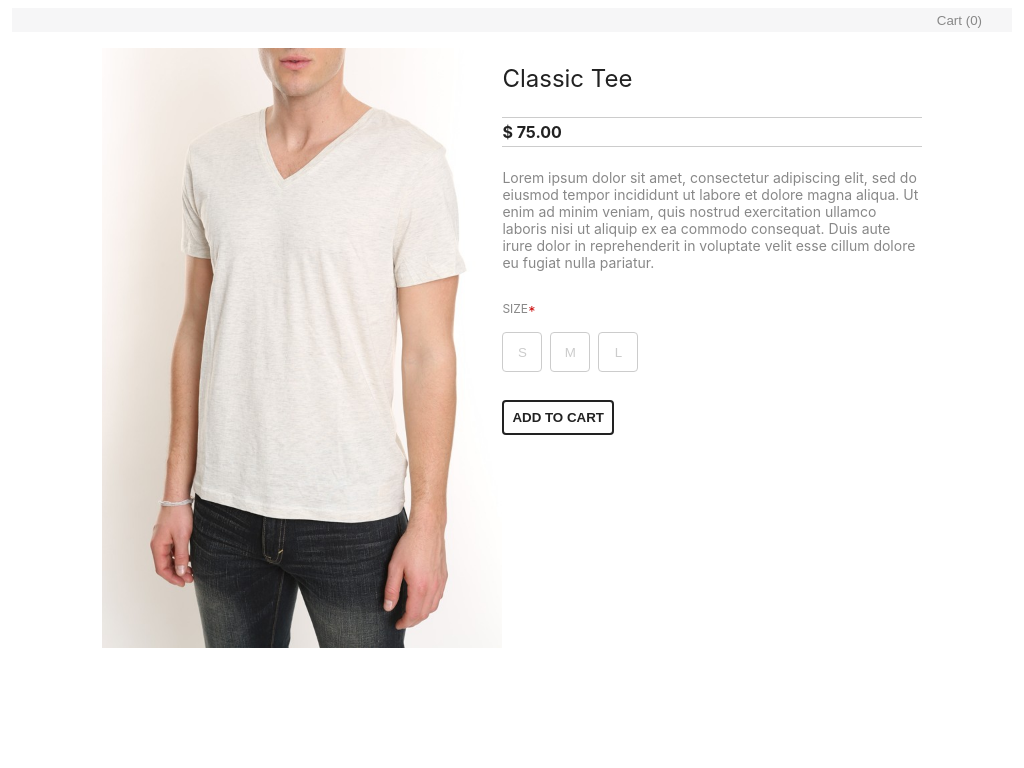
Test case: Main page E2E tests › Must render a alert to user when click add cart withous size selected
Click the button with test id "add-cart-button" at (558, 418), box [502, 400, 614, 435]
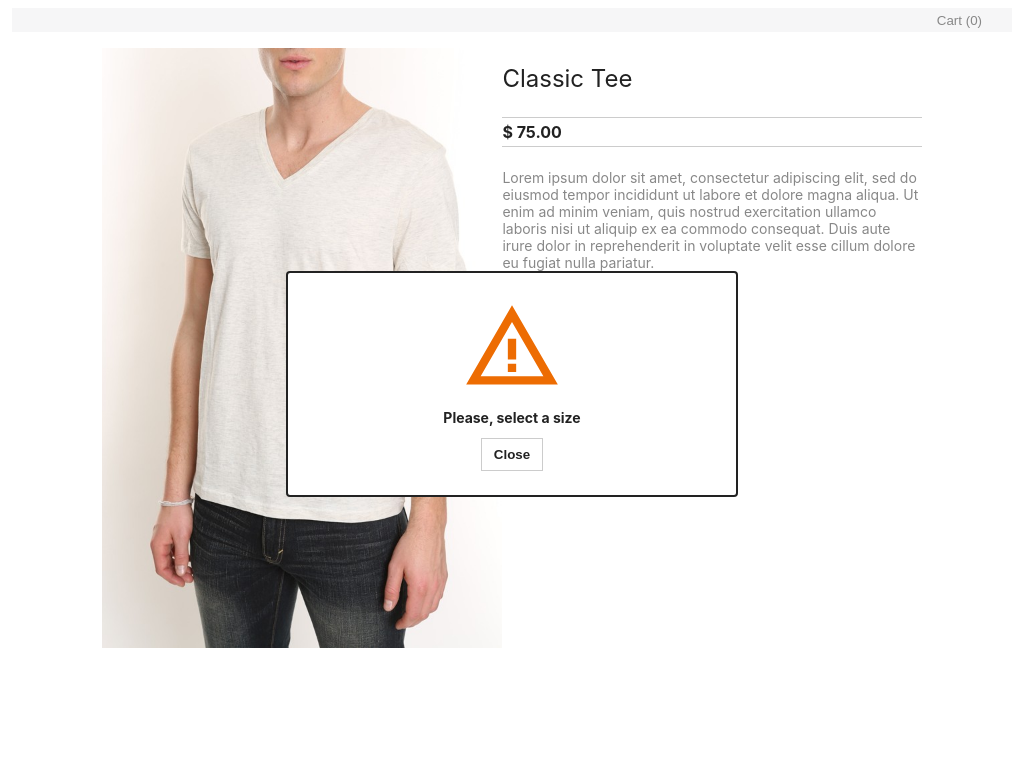
Check: the element with test id "warning" is shown, box [286, 271, 738, 497]
Check: the icon with test id "warning-icon" is shown, box [462, 297, 562, 397]
Check: the text "Please, select a size" is shown, box [443, 409, 581, 426]
Click the button with test id "warning-button" at (512, 455), box [481, 438, 543, 471]
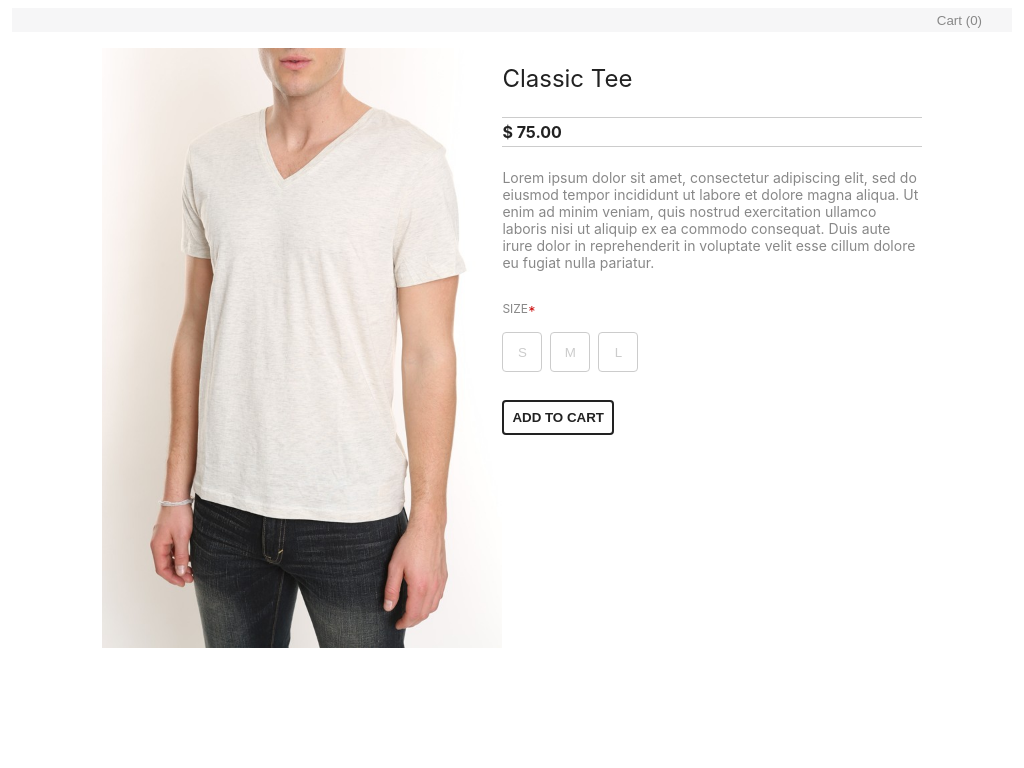
Check: the element with test id "warning" is gone
